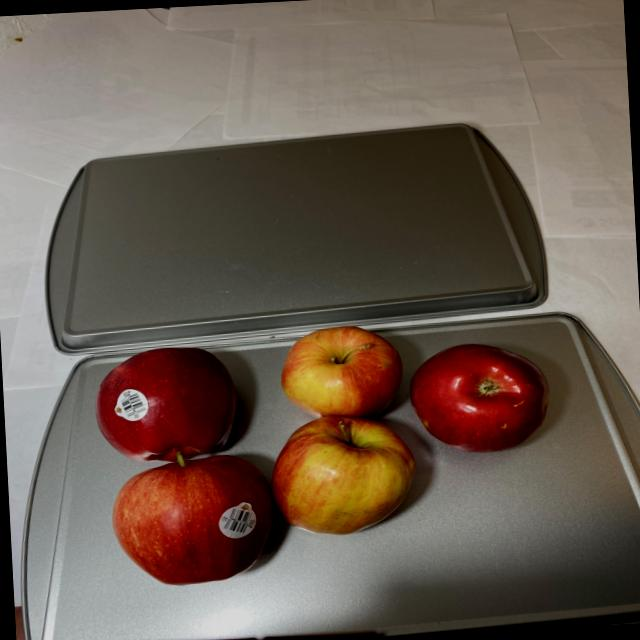apple: (88, 316, 562, 590)
